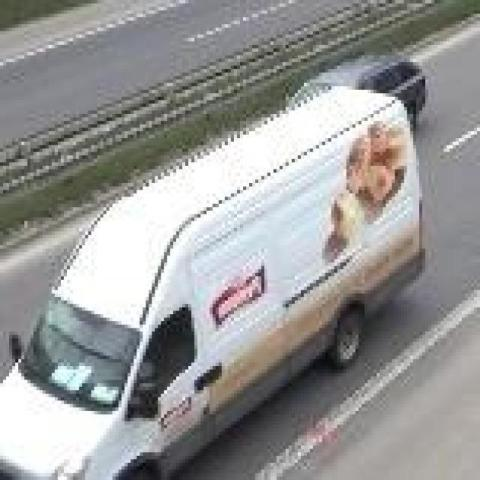van: (0, 86, 422, 480)
